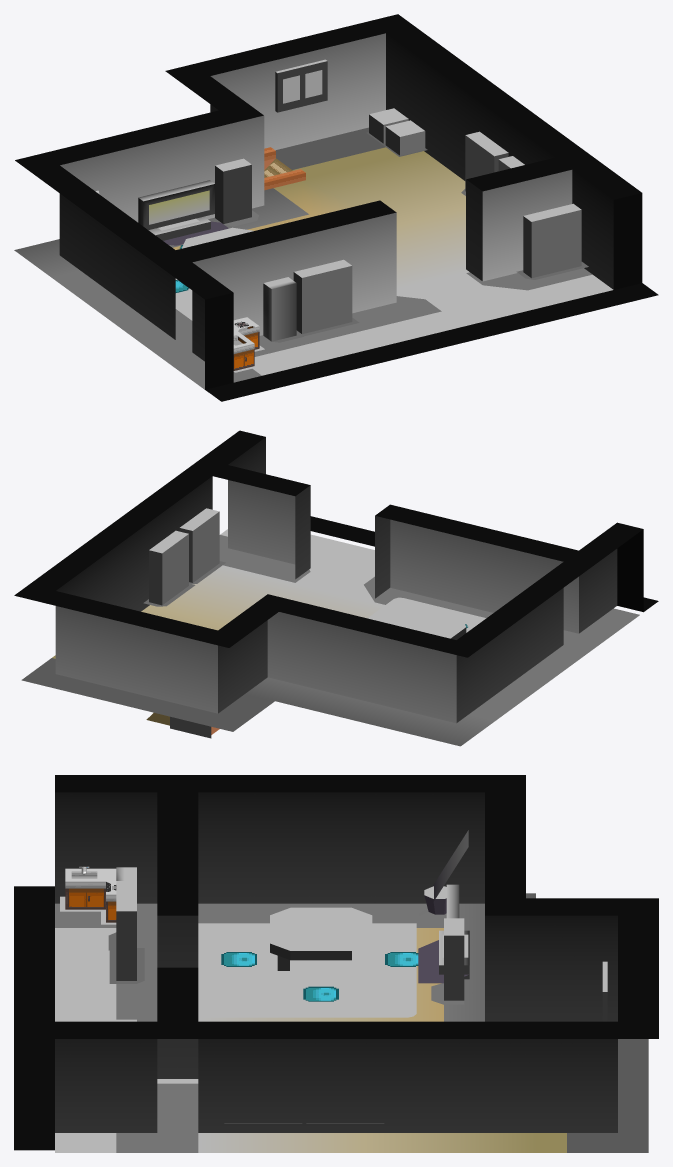
File: aspertia_building_7.obj
3 views of the same model, one above another, from view 1: azimuth 30°, elevation 25°; view 2: azimuth 150°, elevation 25°; view 3: azimuth 270°, elevation 25° (orthographic). The views are drawn at different scales.
Bounding box in the file's own units: 317 × 85.8 × 328.
